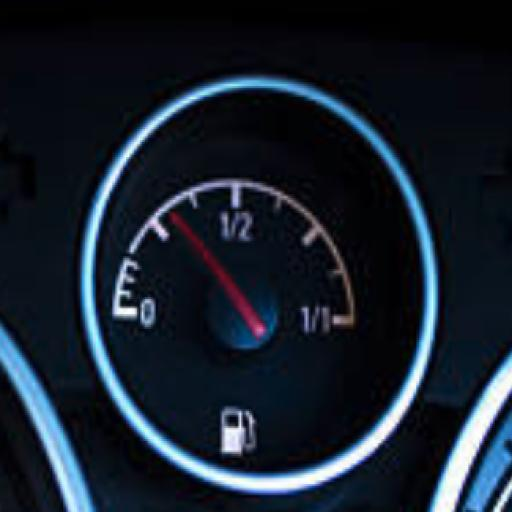empty: (130, 291, 165, 332)
fuel_icon: (214, 400, 262, 462)
full: (296, 291, 348, 342)
guage_area: (81, 79, 441, 490)
needle_center: (204, 264, 278, 348)
needle_tip: (162, 204, 204, 247)
